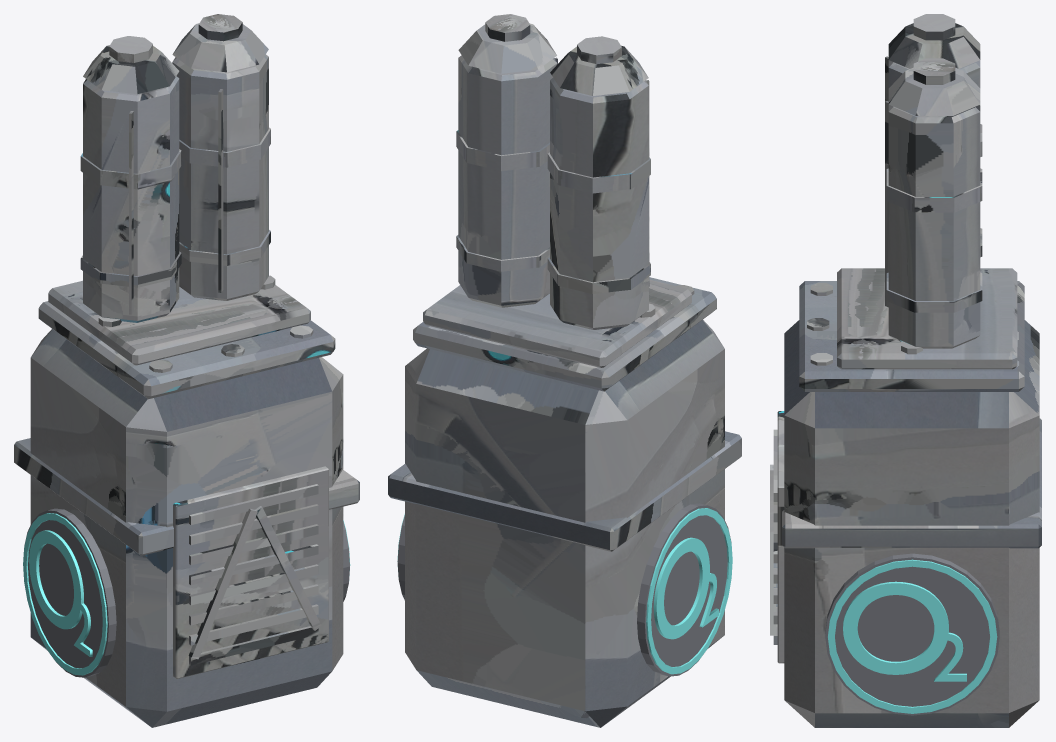
The model's file is SM_Oxygen.fbx.
3 views of the same model, side by side, from view 1: azimuth 30°, elevation 25°; view 2: azimuth 150°, elevation 25°; view 3: azimuth 270°, elevation 25° (orthographic). The views are drawn at different scales.
Visible parts, largest first — view 1: SMN_Oxygen, Emblem_Oxygen_b; view 2: SMN_Oxygen, Emblem_Oxygen_b; view 3: SMN_Oxygen, Emblem_Oxygen.
Part boxes in pixels (<box>): SMN_Oxygen: <box>14,14,359,727</box>; Emblem_Oxygen_b: <box>23,508,116,677</box>; SMN_Oxygen: <box>388,14,741,727</box>; Emblem_Oxygen_b: <box>637,503,732,676</box>; SMN_Oxygen: <box>770,14,1041,727</box>; Emblem_Oxygen: <box>825,553,999,715</box>.
Bounding box in the file's own units: 0.3866 × 0.943 × 0.362.
